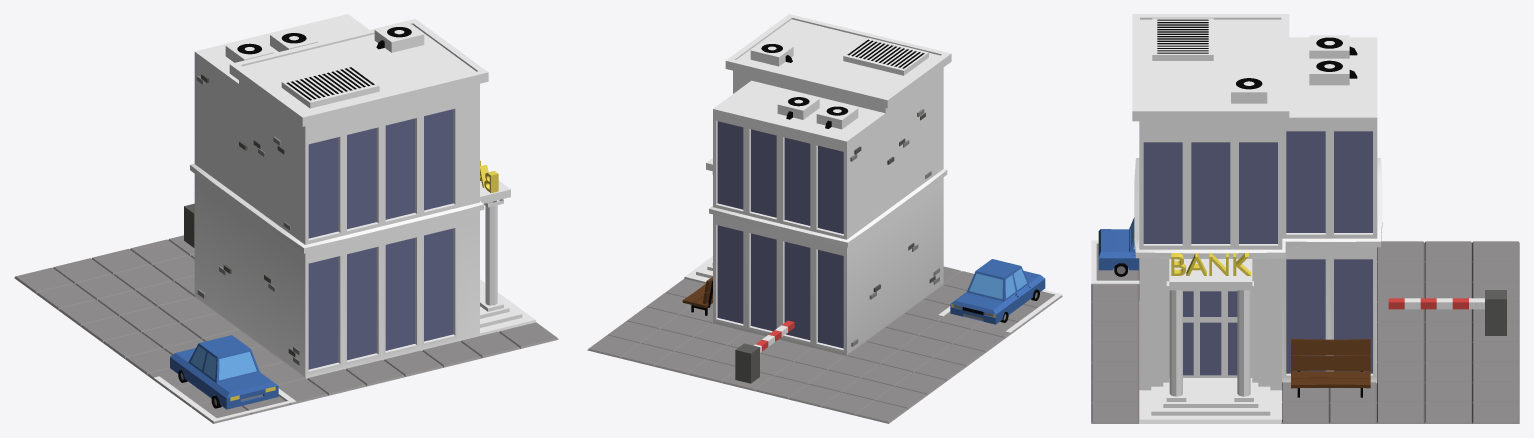
Rendered from Bank.fbx.
3 renders of one model, left to right at view 1: azimuth 30°, elevation 25°; view 2: azimuth 150°, elevation 25°; view 3: azimuth 270°, elevation 25°, orthographic. The views are drawn at different scales.
Parts seen in each view (by area): view 1: Building_C; view 2: Building_C; view 3: Building_C.
Boxes of the visible parts, bbox=[...] form: Building_C: bbox=[14, 14, 558, 423]; Building_C: bbox=[587, 14, 1062, 423]; Building_C: bbox=[1091, 14, 1519, 423].
Size of the model in its own units: 2000 by 1520 by 2000.
